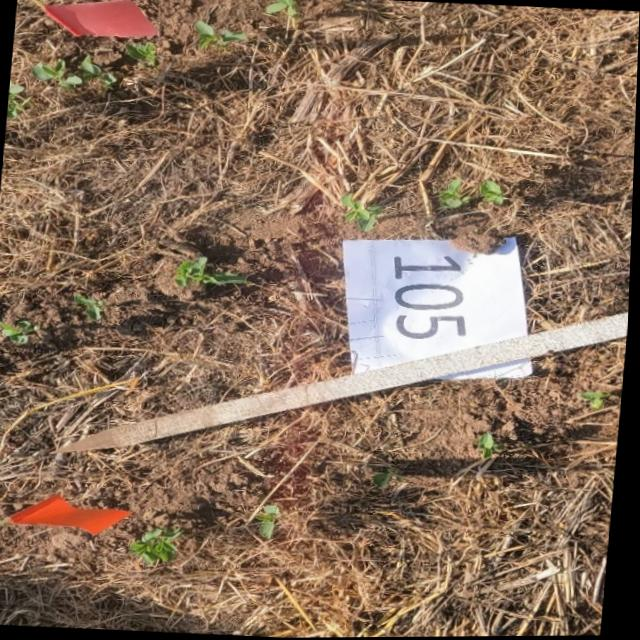soy_plant: (33, 56, 116, 88), (177, 257, 248, 287), (133, 528, 186, 564), (342, 195, 383, 232), (193, 21, 246, 48), (0, 320, 41, 345), (439, 178, 470, 209), (124, 42, 157, 67), (259, 505, 283, 539), (76, 295, 104, 321), (7, 81, 24, 119), (375, 468, 405, 488), (480, 181, 504, 205), (265, 0, 295, 19), (478, 433, 499, 459), (583, 392, 611, 411)
